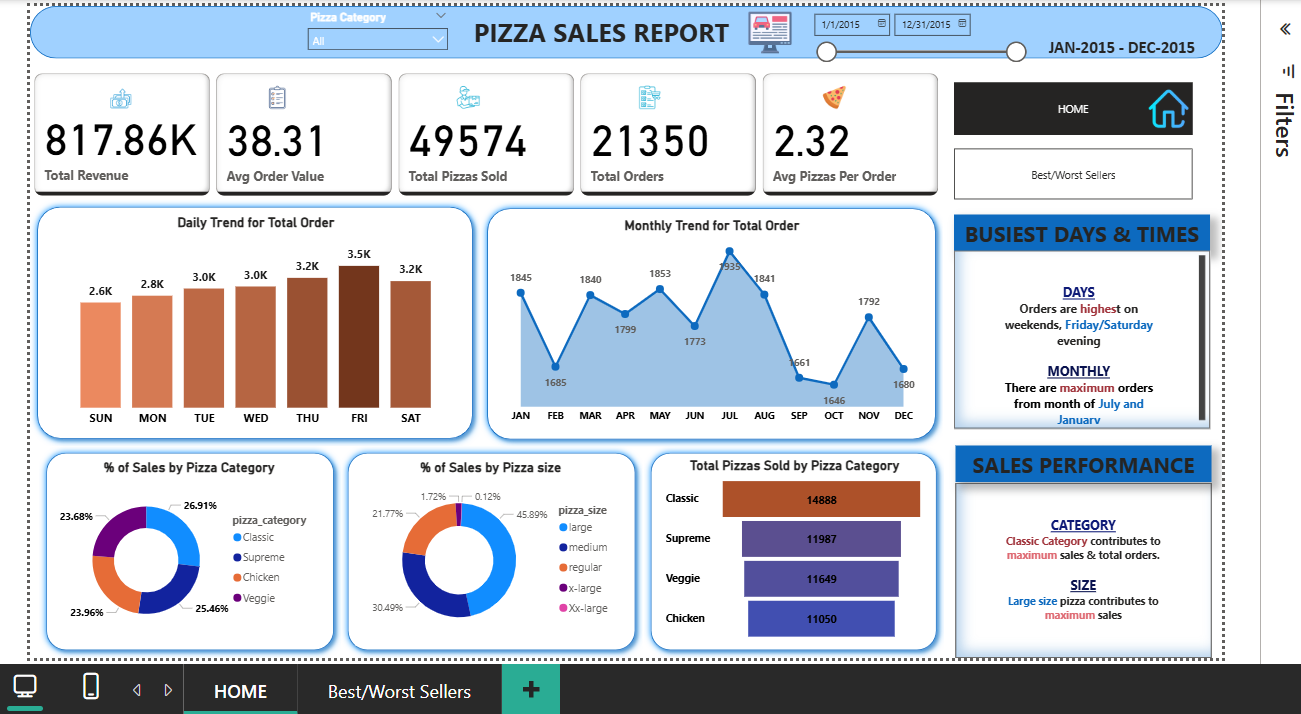

The dashboard page shown, as its layout file describes it:
{"tool":"powerbi","page":{"name":"HOME","canvas":[1500,820],"ordinal":0},"visuals":[{"type":"cardVisual","fields":{"Data":["pizza_sales.Total Revenue","pizza_sales.Avg Order Value","pizza_sales.Total Pizzas Sold","pizza_sales.Total Orders","pizza_sales.Avg Pizzas Per Order"]},"box":[0,80,1148,164],"z":0},{"type":"shape","box":[0,0,1500,66],"z":1000},{"type":"textbox","box":[550,6,336,56],"z":2000},{"type":"textbox","box":[1276,34,196,42],"z":3000},{"type":"image","box":[886,0,88,66],"z":4000},{"type":"shape","box":[0,244,566,310],"z":5000},{"type":"columnChart","title":"Daily Trend for Total Order","fields":{"Category":["pizza_sales.Order Day"],"Y":["pizza_sales.Total Orders"]},"box":[32,262,504,276],"z":6000},{"type":"shape","box":[566.7,244.4,582.2,308.9],"z":7000},{"type":"areaChart","title":"Monthly Trend for Total Order","fields":{"Y":["pizza_sales.Total Orders"],"Category":["pizza_sales.Order Month"]},"box":[593.3,266.7,526.7,266.7],"z":8000},{"type":"shape","box":[11.1,553.3,380,266.7],"z":9000},{"type":"shape","box":[391.1,553.3,380,266.7],"z":10000},{"type":"shape","box":[771.1,553.3,377.8,266.7],"z":11000},{"type":"textbox","box":[1162,262,322,46],"z":12000},{"type":"donutChart","title":"% of Sales by Pizza Category","fields":{"Category":["pizza_sales.pizza_category"],"Y":["pizza_sales.Total Revenue"]},"box":[32.7,569.1,336.4,234.5],"z":13000},{"type":"donutChart","title":"% of Sales by Pizza size","fields":{"Category":["pizza_sales.pizza_size"],"Y":["pizza_sales.Total Revenue"]},"box":[410,569.1,340,234.5],"z":14000},{"type":"funnel","title":"Total Pizzas Sold by Pizza Category","fields":{"Category":["pizza_sales.pizza_category"],"Y":["pizza_sales.Total Pizzas Sold"]},"box":[793.8,568.8,335,235],"z":15000},{"type":"textbox","box":[1162,308,322,224],"z":16000},{"type":"textbox","box":[1164,600,322,220],"z":17000},{"type":"textbox","box":[1164,552,322,46],"z":18000},{"type":"slicer","fields":{"Values":["pizza_sales.pizza_category"]},"box":[340,0,196,66],"z":19000},{"type":"slicer","fields":{"Values":["pizza_sales.order_date"]},"box":[974,0,288,76],"z":20000},{"type":"pageNavigator","box":[1162,96,300,66],"z":21000},{"type":"pageNavigator","box":[1162,180,300,64],"z":22000},{"type":"image","box":[1402,96,60,66],"z":23000}]}

Visuals, with their boxes on the page's 1500x820 design canvas (x1, y1, x2, y2). These are canvas units, not pixel positions in the 1301x714 screenshot, which may show the page scaled, cropped or inside an application window:
cardVisual - pizza_sales.Total Revenue x pizza_sales.Avg Order Value: {"left": 0, "top": 80, "right": 1148, "bottom": 244}
shape: {"left": 0, "top": 0, "right": 1500, "bottom": 66}
textbox: {"left": 550, "top": 6, "right": 886, "bottom": 62}
textbox: {"left": 1276, "top": 34, "right": 1472, "bottom": 76}
image: {"left": 886, "top": 0, "right": 974, "bottom": 66}
shape: {"left": 0, "top": 244, "right": 566, "bottom": 554}
"Daily Trend for Total Order" columnChart: {"left": 32, "top": 262, "right": 536, "bottom": 538}
shape: {"left": 567, "top": 244, "right": 1149, "bottom": 553}
"Monthly Trend for Total Order" areaChart: {"left": 593, "top": 267, "right": 1120, "bottom": 533}
shape: {"left": 11, "top": 553, "right": 391, "bottom": 820}
shape: {"left": 391, "top": 553, "right": 771, "bottom": 820}
shape: {"left": 771, "top": 553, "right": 1149, "bottom": 820}
textbox: {"left": 1162, "top": 262, "right": 1484, "bottom": 308}
"% of Sales by Pizza Category" donutChart: {"left": 33, "top": 569, "right": 369, "bottom": 804}
"% of Sales by Pizza size" donutChart: {"left": 410, "top": 569, "right": 750, "bottom": 804}
"Total Pizzas Sold by Pizza Category" funnel: {"left": 794, "top": 569, "right": 1129, "bottom": 804}
textbox: {"left": 1162, "top": 308, "right": 1484, "bottom": 532}
textbox: {"left": 1164, "top": 600, "right": 1486, "bottom": 820}
textbox: {"left": 1164, "top": 552, "right": 1486, "bottom": 598}
slicer - pizza_sales.pizza_category: {"left": 340, "top": 0, "right": 536, "bottom": 66}
slicer - pizza_sales.order_date: {"left": 974, "top": 0, "right": 1262, "bottom": 76}
pageNavigator: {"left": 1162, "top": 96, "right": 1462, "bottom": 162}
pageNavigator: {"left": 1162, "top": 180, "right": 1462, "bottom": 244}
image: {"left": 1402, "top": 96, "right": 1462, "bottom": 162}
